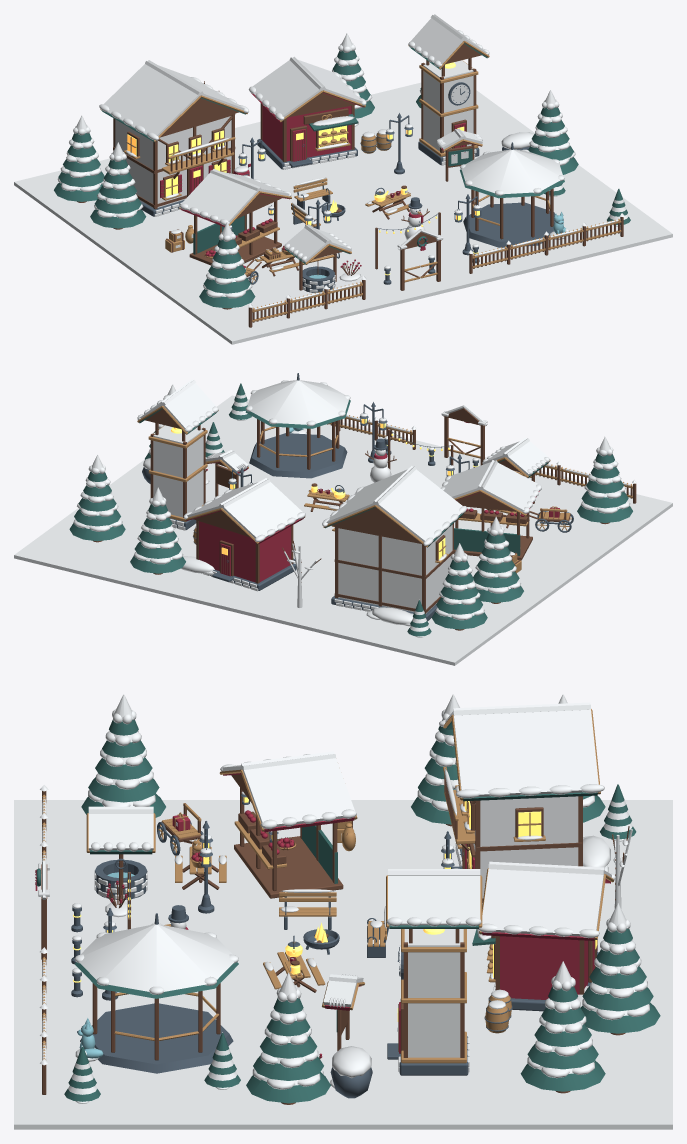
Rendered from alpine-snow-village-alpine-village-squar-027f04a9-starter-scene__19850.glb.
The picture shows the model from 3 angles, top to bottom: view 1: azimuth 30°, elevation 25°; view 2: azimuth 150°, elevation 25°; view 3: azimuth 270°, elevation 25°; orthographic projection. The views are drawn at different scales.
Visible parts, largest first — view 1: 042-mountain-guesthouse/mountain-guesthouse-snow, 044-village-clock-belfry/village-clock-belfry-snow, 043-alpine-bakery/alpine-bakery-snow, 046-octagonal-winter-pavilion/octagonal-winter-pavilion-snow, 042-mountain-guesthouse/mountain-guesthouse-wood, 045-covered-winter-market/covered-winter-market-snow, 046-octagonal-winter-pavilion/octagonal-winter-pavilion-iron, 005-packed-snow-tile/packed-snow-tile-snow, 043-alpine-bakery/alpine-bakery-berry, 003-packed-snow-tile/packed-snow-tile-snow, 002-packed-snow-tile/packed-snow-tile-snow, 023-packed-snow-tile/packed-snow-tile-snow (+55 smaller); view 2: 042-mountain-guesthouse/mountain-guesthouse-snow, 044-village-clock-belfry/village-clock-belfry-snow, 043-alpine-bakery/alpine-bakery-berry, 043-alpine-bakery/alpine-bakery-snow, 046-octagonal-winter-pavilion/octagonal-winter-pavilion-snow, 042-mountain-guesthouse/mountain-guesthouse-wood, 046-octagonal-winter-pavilion/octagonal-winter-pavilion-iron, 045-covered-winter-market/covered-winter-market-snow, 036-packed-snow-tile/packed-snow-tile-snow, 000-packed-snow-tile/packed-snow-tile-snow, 004-packed-snow-tile/packed-snow-tile-snow, 012-packed-snow-tile/packed-snow-tile-snow (+49 smaller); view 3: 042-mountain-guesthouse/mountain-guesthouse-snow, 044-village-clock-belfry/village-clock-belfry-snow, 043-alpine-bakery/alpine-bakery-snow, 046-octagonal-winter-pavilion/octagonal-winter-pavilion-snow, 045-covered-winter-market/covered-winter-market-snow, 046-octagonal-winter-pavilion/octagonal-winter-pavilion-iron, 040-packed-snow-tile/packed-snow-tile-snow, 037-packed-snow-tile/packed-snow-tile-snow, 036-packed-snow-tile/packed-snow-tile-snow, 038-packed-snow-tile/packed-snow-tile-snow, 041-packed-snow-tile/packed-snow-tile-snow, 043-alpine-bakery/alpine-bakery-berry (+66 smaller).
Boxes of the visible parts, left/top/right/bottom form: 042-mountain-guesthouse/mountain-guesthouse-snow: left=99, top=60, right=248, bottom=216; 044-village-clock-belfry/village-clock-belfry-snow: left=408, top=14, right=489, bottom=165; 043-alpine-bakery/alpine-bakery-snow: left=248, top=56, right=366, bottom=169; 046-octagonal-winter-pavilion/octagonal-winter-pavilion-snow: left=460, top=149, right=564, bottom=195; 042-mountain-guesthouse/mountain-guesthouse-wood: left=113, top=98, right=238, bottom=209; 045-covered-winter-market/covered-winter-market-snow: left=179, top=169, right=291, bottom=227; 046-octagonal-winter-pavilion/octagonal-winter-pavilion-iron: left=463, top=142, right=555, bottom=247; 005-packed-snow-tile/packed-snow-tile-snow: left=195, top=299, right=294, bottom=344; 043-alpine-bakery/alpine-bakery-berry: left=251, top=92, right=364, bottom=161; 003-packed-snow-tile/packed-snow-tile-snow: left=123, top=246, right=211, bottom=290; 002-packed-snow-tile/packed-snow-tile-snow: left=86, top=220, right=185, bottom=264; 023-packed-snow-tile/packed-snow-tile-snow: left=389, top=253, right=483, bottom=298; 042-mountain-guesthouse/mountain-guesthouse-snow: left=322, top=466, right=467, bottom=614; 044-village-clock-belfry/village-clock-belfry-snow: left=137, top=379, right=218, bottom=530; 043-alpine-bakery/alpine-bakery-berry: left=186, top=510, right=304, bottom=582; 043-alpine-bakery/alpine-bakery-snow: left=183, top=478, right=305, bottom=591; 046-octagonal-winter-pavilion/octagonal-winter-pavilion-snow: left=246, top=380, right=350, bottom=426; 042-mountain-guesthouse/mountain-guesthouse-wood: left=332, top=507, right=454, bottom=613; 046-octagonal-winter-pavilion/octagonal-winter-pavilion-iron: left=249, top=373, right=347, bottom=478; 045-covered-winter-market/covered-winter-market-snow: left=440, top=460, right=541, bottom=513; 036-packed-snow-tile/packed-snow-tile-snow: left=14, top=528, right=112, bottom=573; 000-packed-snow-tile/packed-snow-tile-snow: left=392, top=621, right=491, bottom=665; 004-packed-snow-tile/packed-snow-tile-snow: left=537, top=514, right=636, bottom=558; 012-packed-snow-tile/packed-snow-tile-snow: left=266, top=590, right=358, bottom=634; 042-mountain-guesthouse/mountain-guesthouse-snow: left=439, top=702, right=604, bottom=903; 044-village-clock-belfry/village-clock-belfry-snow: left=386, top=869, right=481, bottom=1072; 043-alpine-bakery/alpine-bakery-snow: left=477, top=861, right=615, bottom=991; 046-octagonal-winter-pavilion/octagonal-winter-pavilion-snow: left=74, top=923, right=238, bottom=994; 045-covered-winter-market/covered-winter-market-snow: left=220, top=751, right=356, bottom=832; 046-octagonal-winter-pavilion/octagonal-winter-pavilion-iron: left=80, top=913, right=233, bottom=1073; 040-packed-snow-tile/packed-snow-tile-snow: left=124, top=1078, right=233, bottom=1129; 037-packed-snow-tile/packed-snow-tile-snow: left=453, top=1078, right=563, bottom=1129; 036-packed-snow-tile/packed-snow-tile-snow: left=563, top=1078, right=672, bottom=1129; 038-packed-snow-tile/packed-snow-tile-snow: left=343, top=1078, right=453, bottom=1129; 041-packed-snow-tile/packed-snow-tile-snow: left=14, top=1078, right=123, bottom=1129; 043-alpine-bakery/alpine-bakery-berry: left=482, top=879, right=610, bottom=999.
Bounding box in the file's own units: 28 × 7.93 × 24.
